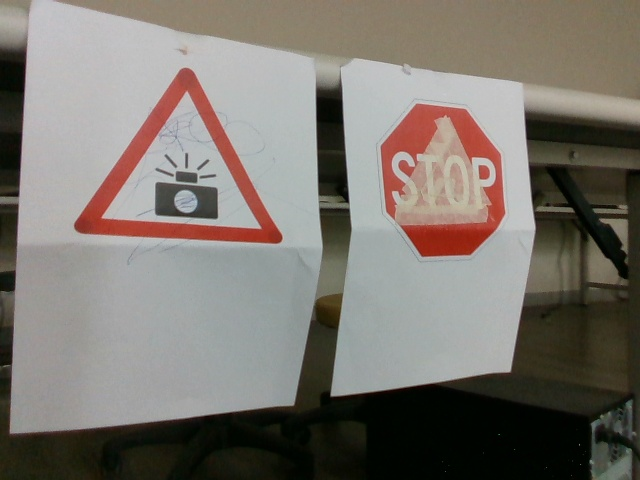camera: (80, 68, 283, 249)
stop: (376, 102, 506, 258)
